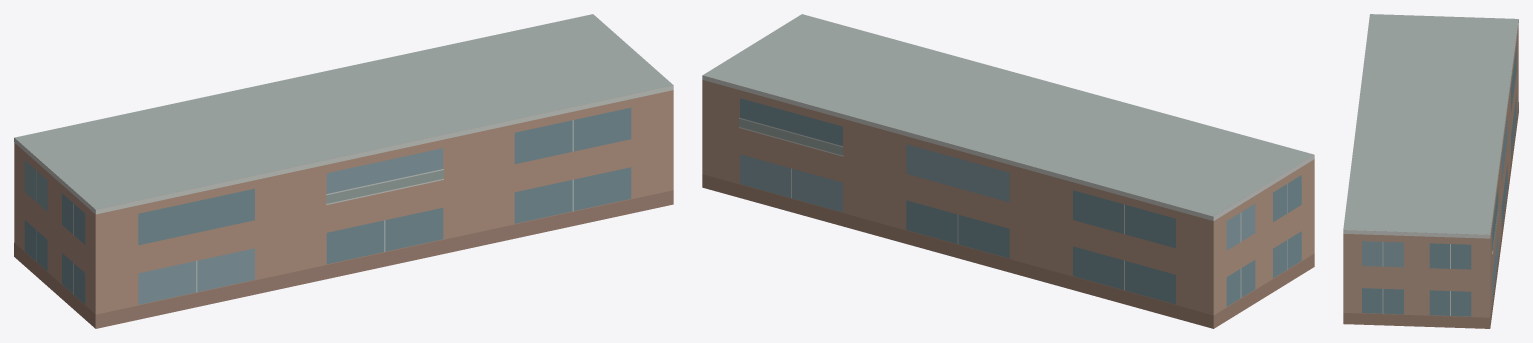
Rendered from survey-upis-32858647.glb.
3 views of the same model, side by side, from view 1: azimuth 30°, elevation 25°; view 2: azimuth 150°, elevation 25°; view 3: azimuth 270°, elevation 25° (orthographic). The views are drawn at different scales.
Parts seen in each view (by area): view 1: survey-upis-32858647.tmp; view 2: survey-upis-32858647.tmp; view 3: survey-upis-32858647.tmp.
Part boxes in pixels (x1,y1,x2,y2): survey-upis-32858647.tmp: [14, 14, 673, 328]; survey-upis-32858647.tmp: [702, 14, 1314, 328]; survey-upis-32858647.tmp: [1343, 14, 1518, 328].
Size of the model in its own units: 30.74 by 6.1 by 10.33.
